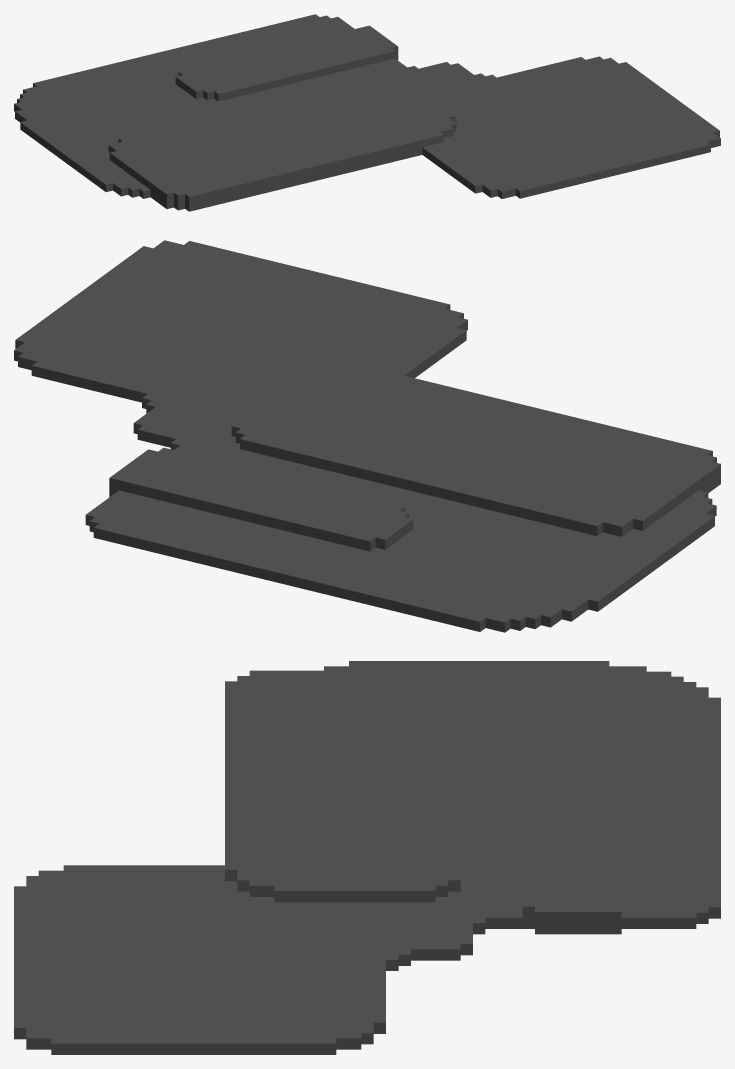
Rendered from rocks.obj.
The picture shows the model from 3 angles, top to bottom: view 1: azimuth 30°, elevation 25°; view 2: azimuth 150°, elevation 25°; view 3: azimuth 270°, elevation 25°; orthographic projection. The views are drawn at different scales.
Size of the model in its own units: 73 by 2 by 57.
1 material, 1 textured.
